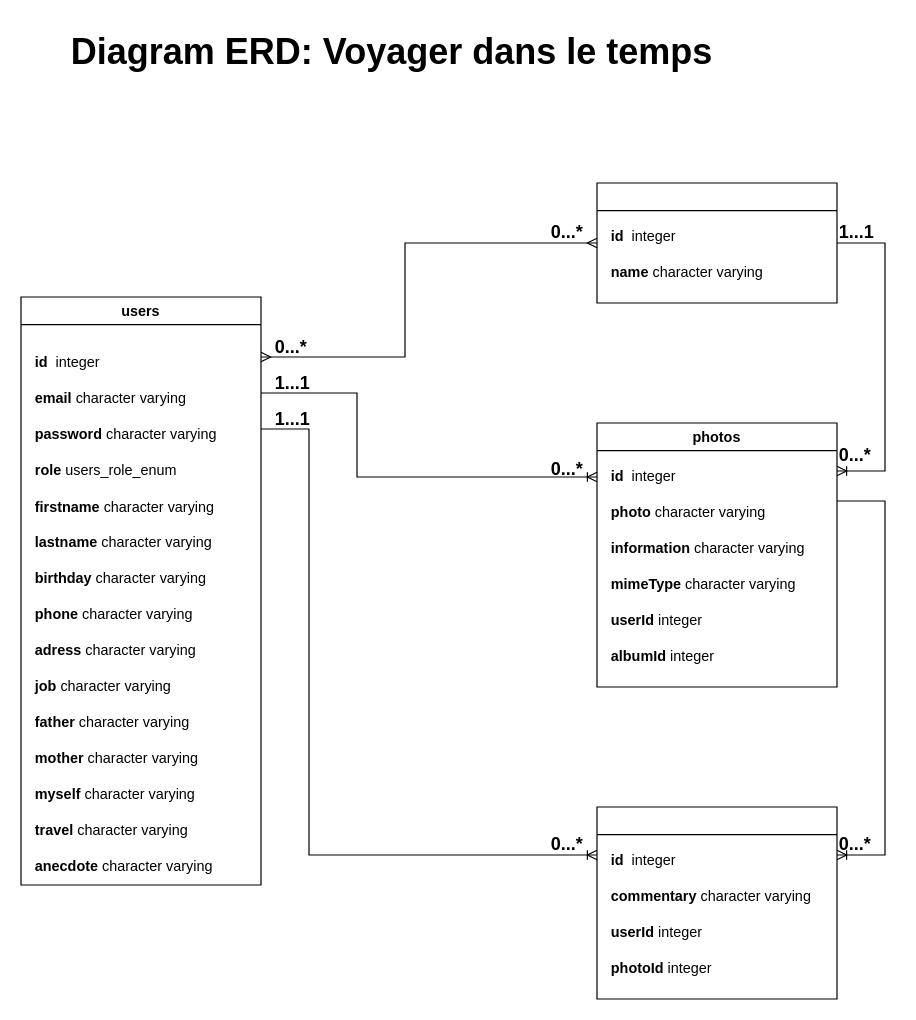
The diagram is 916 pixels wide and 1020 high, and some of its shapes have lost their labels. Each missing label, with the box of its shape:
albums: (596, 182, 837, 303)
commentaries: (596, 806, 837, 999)
